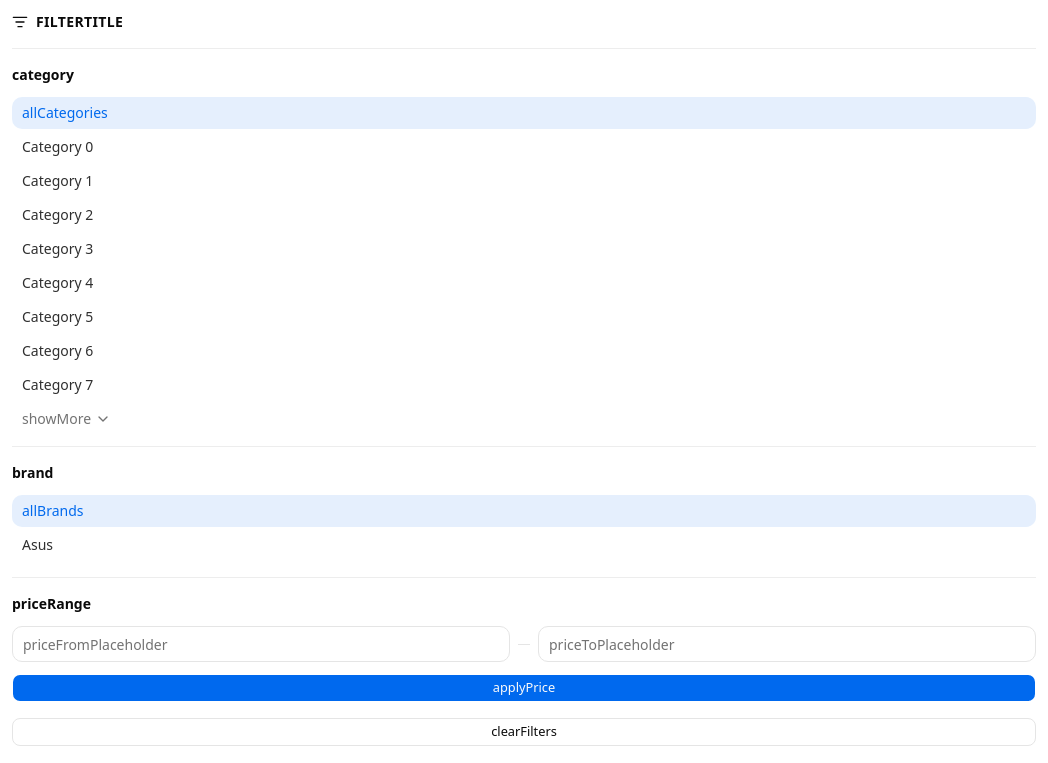
Test: folds a long list behind a more button and unfolds it
Expected: the radio button labelled "Category 11" is not shown
Click the button "showMore": (67, 419) [12,409,121,429]
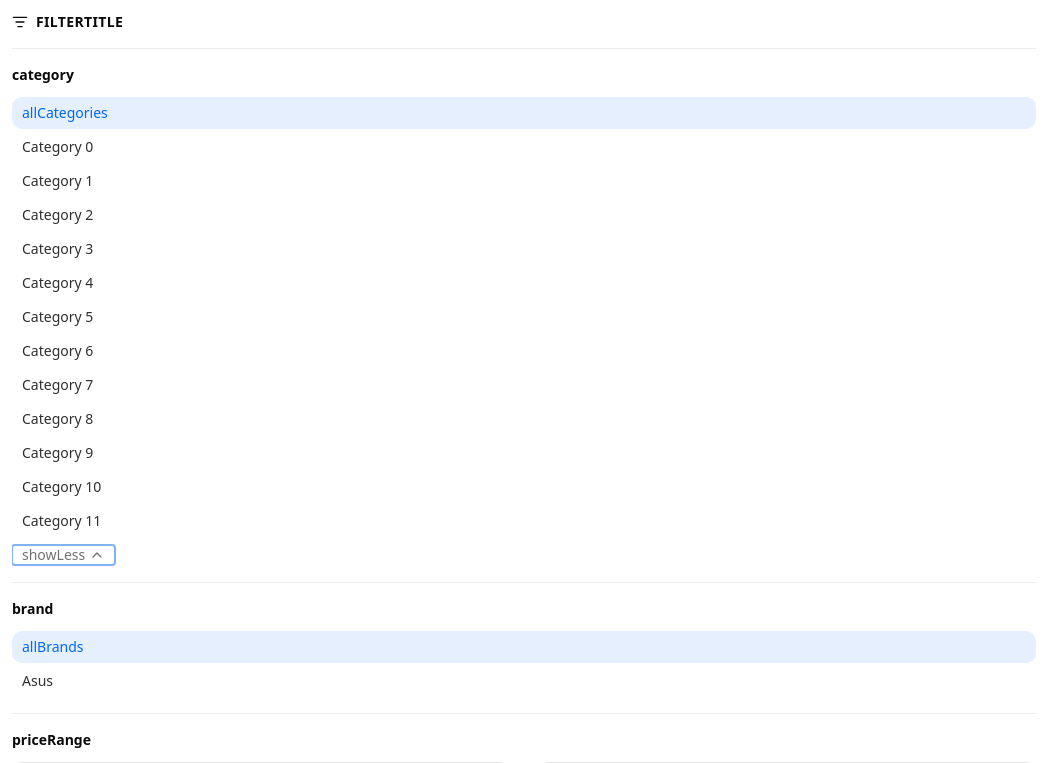
Expected: the radio button labelled "Category 11" is shown, [22,511,101,530]
Expected: the button "showLess" is expanded, [12,545,115,565]
